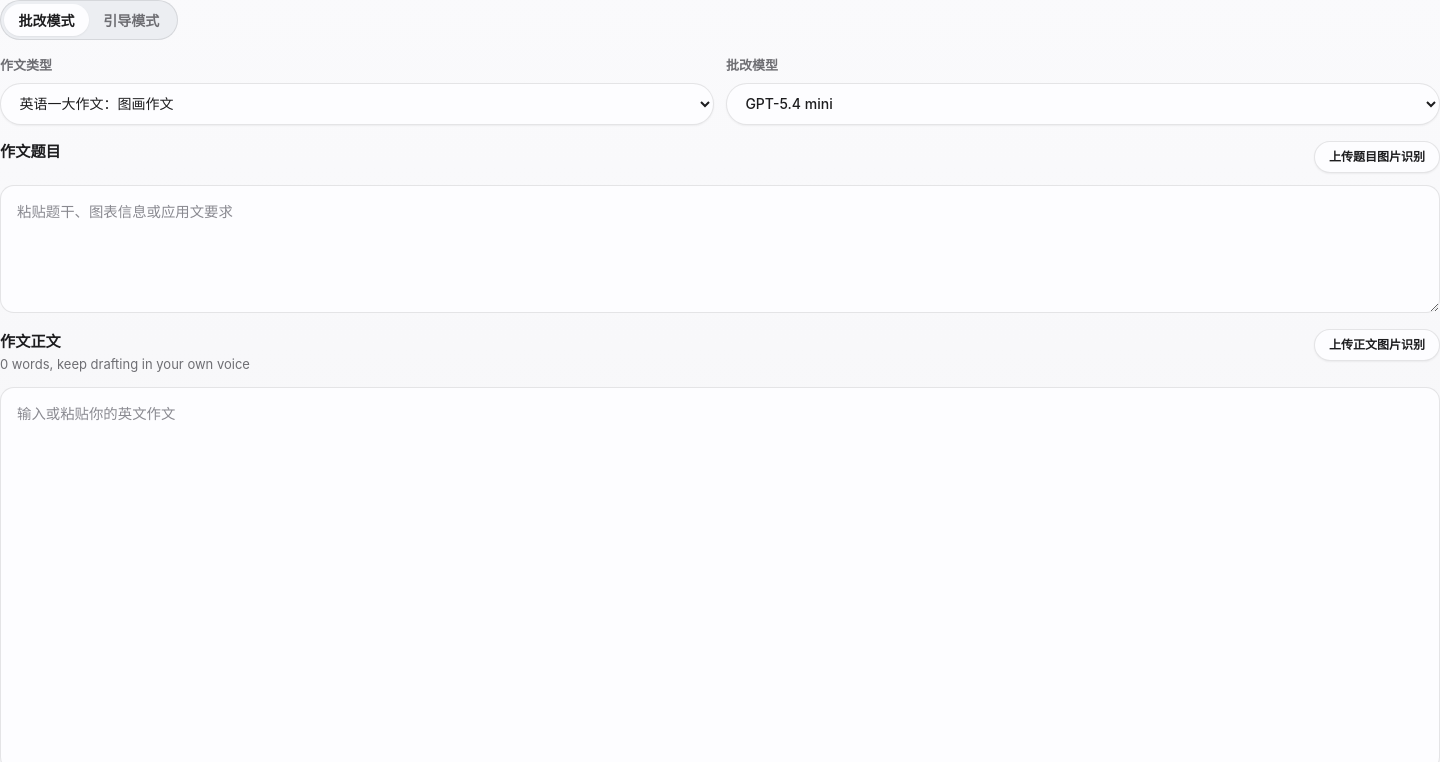
Test: EssaySubmitForm › keeps guidance mode focused without the auxiliary coach rail
Step 1. Click the button "引导模式" → coordinates (131, 20), box [89,4,174,36]
(page scrolled)
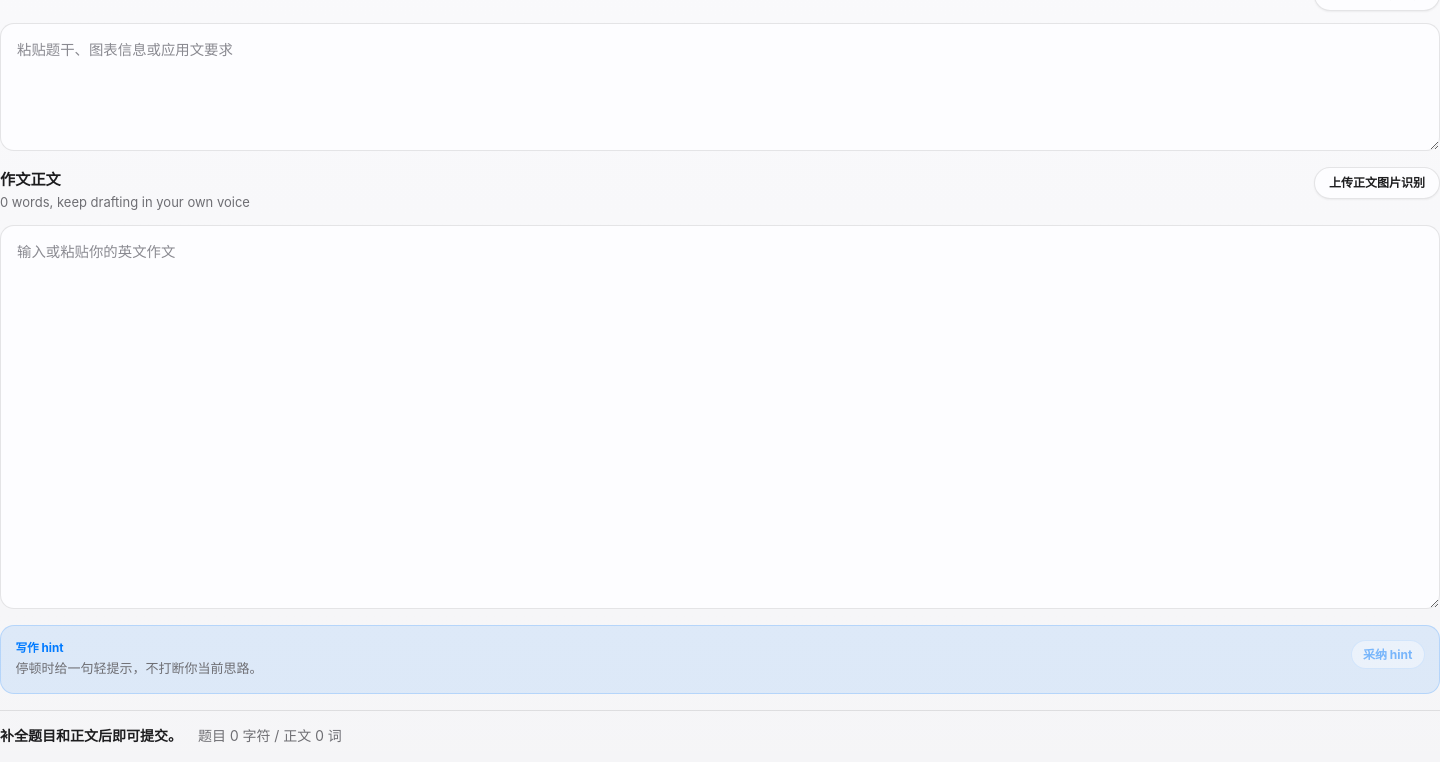
Expected: the text "停顿时给一句轻提示，不打断你当前思路。" is shown, [15,660,262,676]
